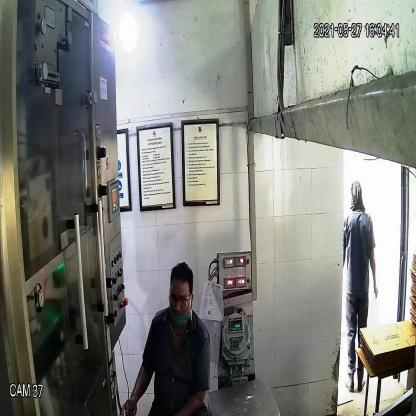goggles: (168, 288, 196, 312)
